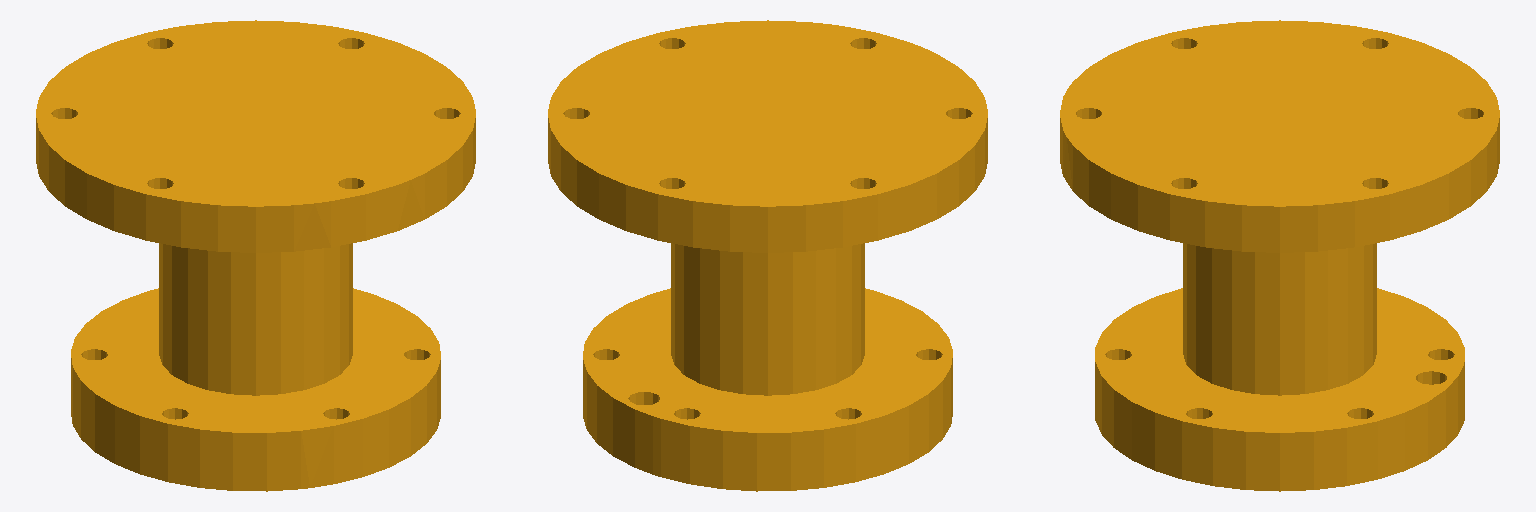
robot.urdf — bridge:
<?xml version="1.0" encoding="utf-8"?>
<!-- This URDF was automatically created by SolidWorks to URDF Exporter! Originally created by Stephen Brawner (brawner@gmail.com) 
     Commit Version: 1.6.0-4-g7f85cfe  Build Version: 1.6.7995.38578
     For more information, please see http://wiki.ros.org/sw_urdf_exporter -->
<robot
  name="bridge">
  <link
    name="base_link">
    <inertial>
      <origin
        xyz="5.4551E-05 0.00014985 0.032699"
        rpy="0 0 0" />
      <mass
        value="0.13288" />
      <inertia
        ixx="0.00010156"
        ixy="9.8409E-08"
        ixz="-9.2967E-08"
        iyy="0.00010179"
        iyz="-2.5537E-07"
        izz="7.2464E-05" />
    </inertial>
    <visual>
      <origin
        xyz="0 0 0"
        rpy="0 0 0" />
      <geometry>
        <mesh
          filename="package://bridge/meshes/base_link.STL" />
      </geometry>
      <material
        name="">
        <color
          rgba="0.94118 0.67451 0.11765 1" />
      </material>
    </visual>
    <collision>
      <origin
        xyz="0 0 0"
        rpy="0 0 0" />
      <geometry>
        <mesh
          filename="package://bridge/meshes/base_link.STL" />
      </geometry>
    </collision>
  </link>
</robot>

--- Render facts (derived) ---
3 views of the same robot in one strip: view 1: azimuth 30°, elevation 25°; view 2: azimuth 150°, elevation 25°; view 3: azimuth 270°, elevation 25° (orthographic).
Robot: bridge — 1 links, 0 joints (none); root link base_link; default pose: all joints at 0.
Links seen in each view (by area): view 1: base_link; view 2: base_link; view 3: base_link.
Link boxes in pixels (left/top/right/bottom): base_link: left=36, top=20, right=475, bottom=491; base_link: left=548, top=20, right=987, bottom=491; base_link: left=1060, top=20, right=1499, bottom=491.
Bounding box of the posed robot: 0.082 × 0.082 × 0.0615 m (x, y, z).
1 mesh visuals loaded from 1 distinct referenced files (1 binary STL).
